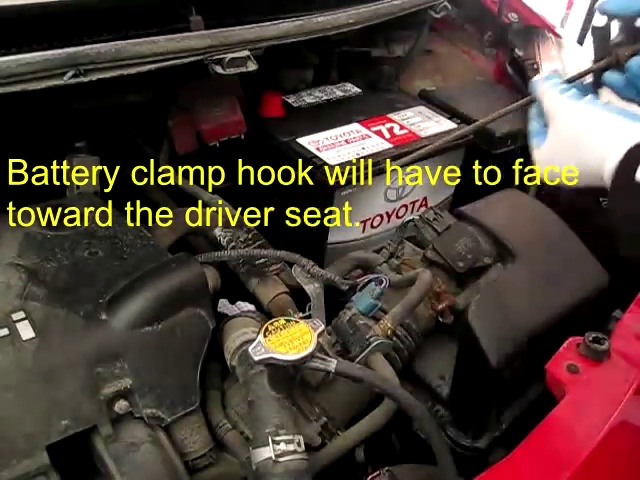battery: (247, 81, 480, 166)
pos_disconnected: (190, 76, 293, 152)
